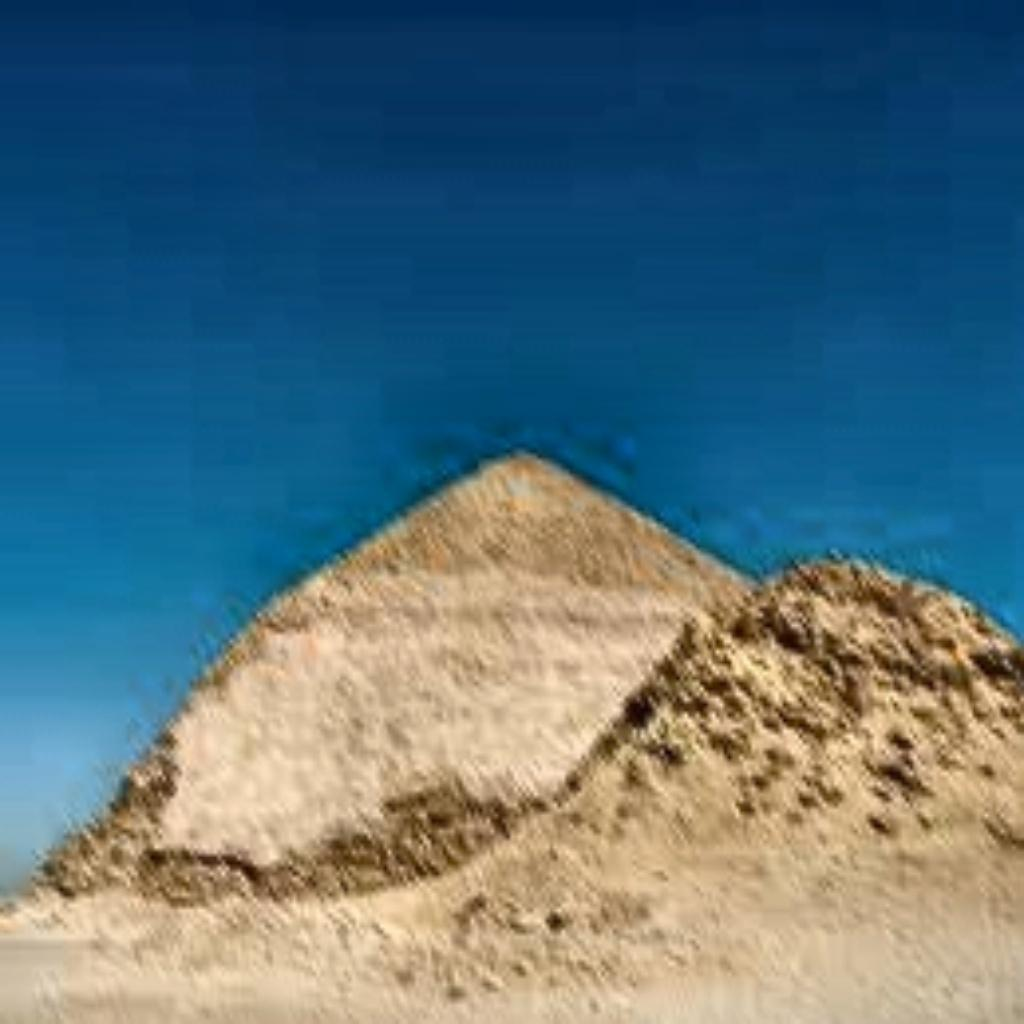Bent Pyramid of King Sneferu: (12, 433, 1020, 934)
